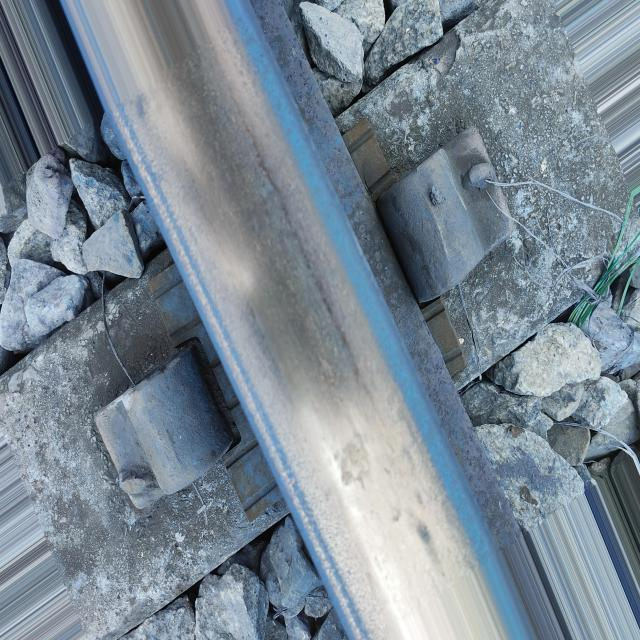Missing Fastener: (68, 347, 251, 537), (368, 107, 534, 314)
